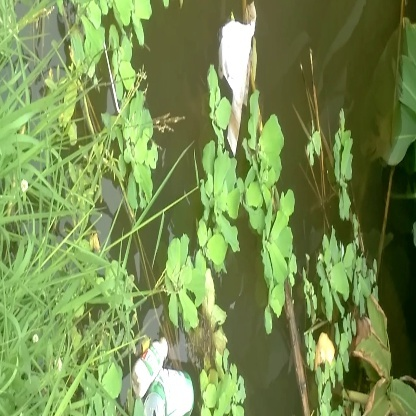bottle: (129, 334, 166, 397)
plastic-bag: (212, 5, 268, 143)
